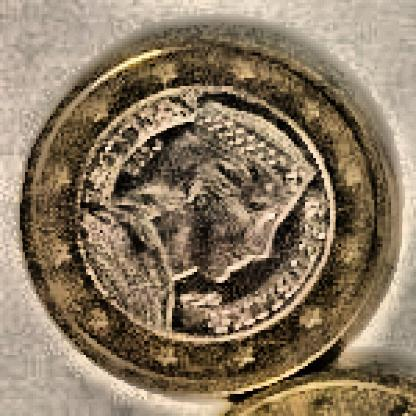coin: (17, 36, 402, 401)
